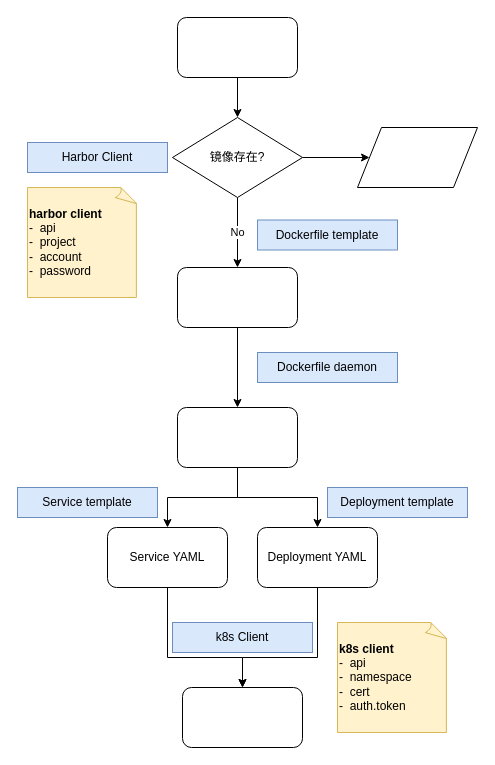
The diagram is 495 pixels wide and 765 high, and some of its shapes have lost their labels. The shapes that lost their labels are listed below. From the top down, each one's centre as x and y in pixels, then its label:
At pixel 237 47: "jar / war".
At pixel 417 157: "END".
At pixel 237 297: "Dockerfile".
At pixel 237 437: "Docker image".
At pixel 242 717: "k8s Object".
